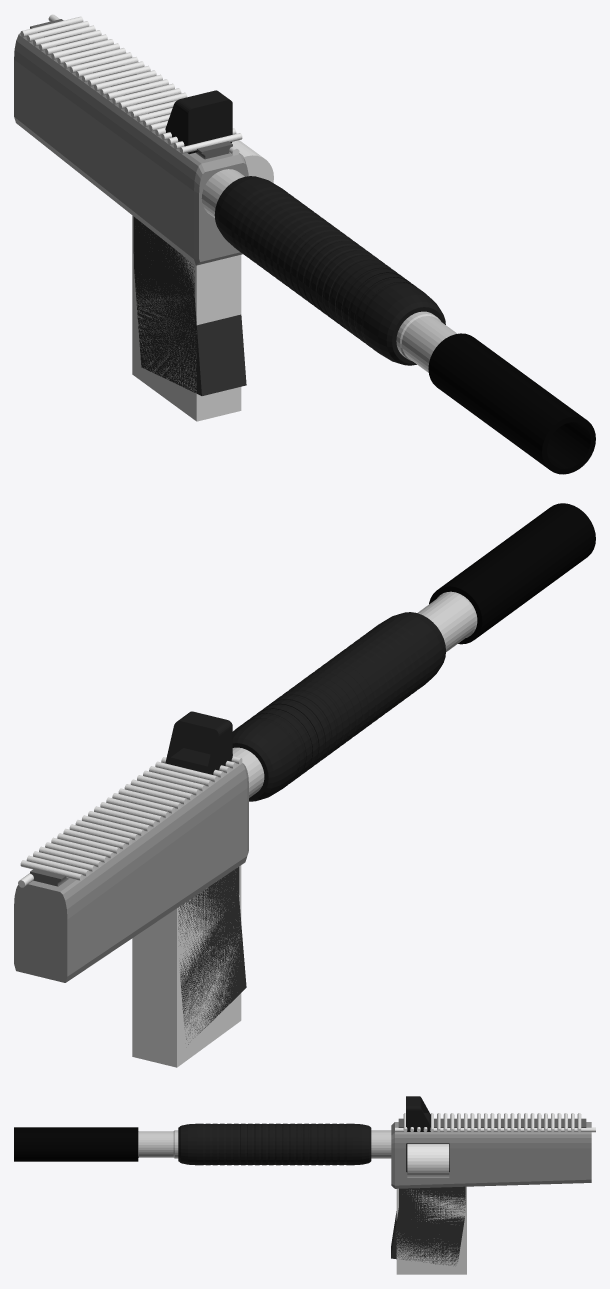
Rendered from FallBoyGun.fbx.
3 views of the same model, one above another, from view 1: azimuth 30°, elevation 25°; view 2: azimuth 150°, elevation 25°; view 3: azimuth 270°, elevation 25° (orthographic). The views are drawn at different scales.
Visible parts, largest first — view 1: Cube, Cylinder.004, Cube.001, Cylinder.005; view 2: Cube, Cube.001, Cylinder.004; view 3: Cube, Cube.001, Cylinder.004, Cylinder.005, Cylinder.003.
Part boxes in pixels (x1,y1,x2,y2): Cube: (14,19,595,474); Cylinder.004: (20,16,242,153); Cube.001: (132,215,241,421); Cylinder.005: (231,140,273,182); Cube: (14,503,595,1044); Cube.001: (132,865,241,1067); Cylinder.004: (20,756,242,880); Cube: (14,1096,591,1265); Cube.001: (396,1186,466,1274); Cylinder.004: (403,1113,581,1132); Cylinder.005: (407,1143,449,1177); Cylinder.003: (395,1127,595,1132).
Size of the model in its own units: 438 by 1311 by 4136.
